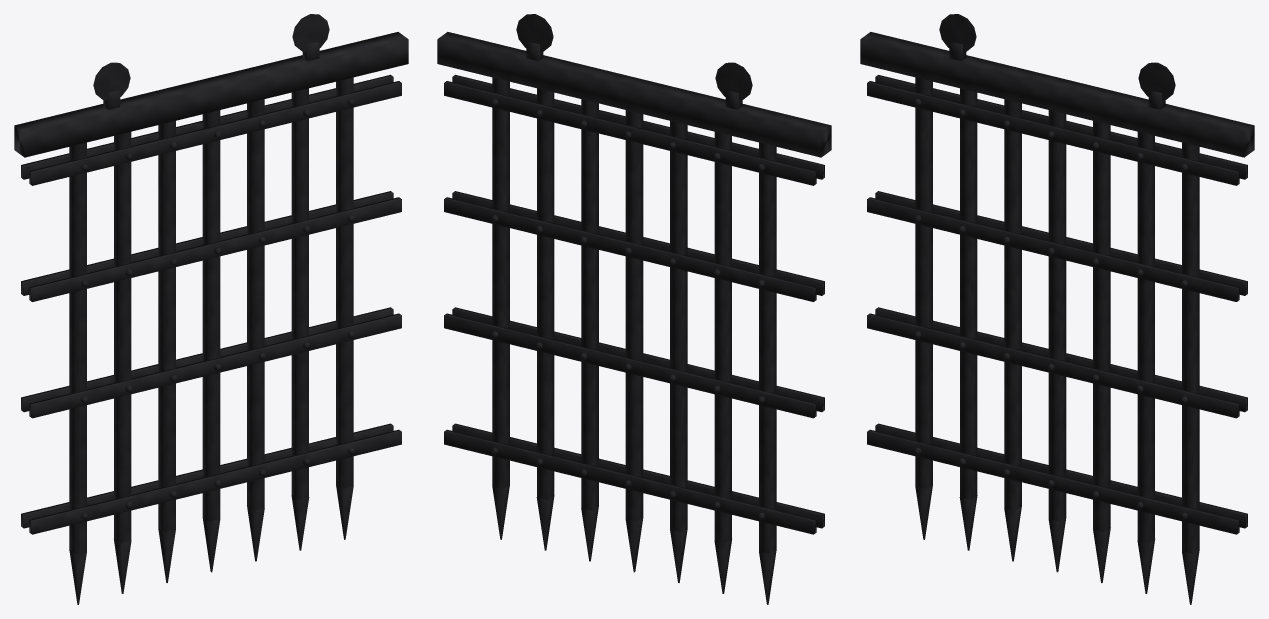
File: Portcullis_HeavyIron_LOD0.glb
3 renders of one model, left to right at view 1: azimuth 30°, elevation 25°; view 2: azimuth 150°, elevation 25°; view 3: azimuth 330°, elevation 25°, orthographic.
Parts seen in each view (by area): view 1: Portcullis_HeavyIron_LOD0; view 2: Portcullis_HeavyIron_LOD0; view 3: Portcullis_HeavyIron_LOD0.
Boxes of the visible parts, x1,y1,x2,y2 form: Portcullis_HeavyIron_LOD0: (14, 14, 408, 604); Portcullis_HeavyIron_LOD0: (437, 14, 831, 604); Portcullis_HeavyIron_LOD0: (860, 14, 1254, 604).
Size of the model in its own units: 2.59 by 3.44 by 0.1915.
1 material, 1 textured.
